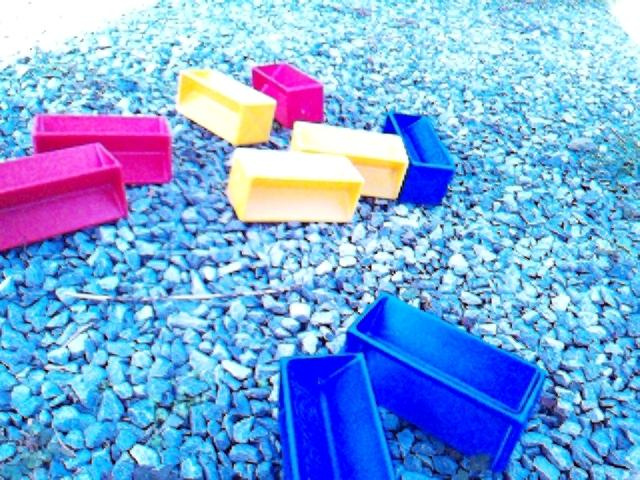blue: (344, 292, 548, 474), (279, 351, 398, 480), (382, 111, 457, 211)
red: (1, 142, 129, 254), (33, 114, 173, 186), (252, 64, 325, 129)
yellow: (226, 149, 367, 224), (292, 121, 411, 202), (177, 69, 280, 148)
